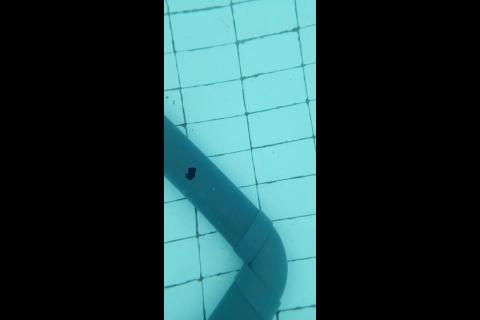kebocoran: (184, 164, 198, 182)
